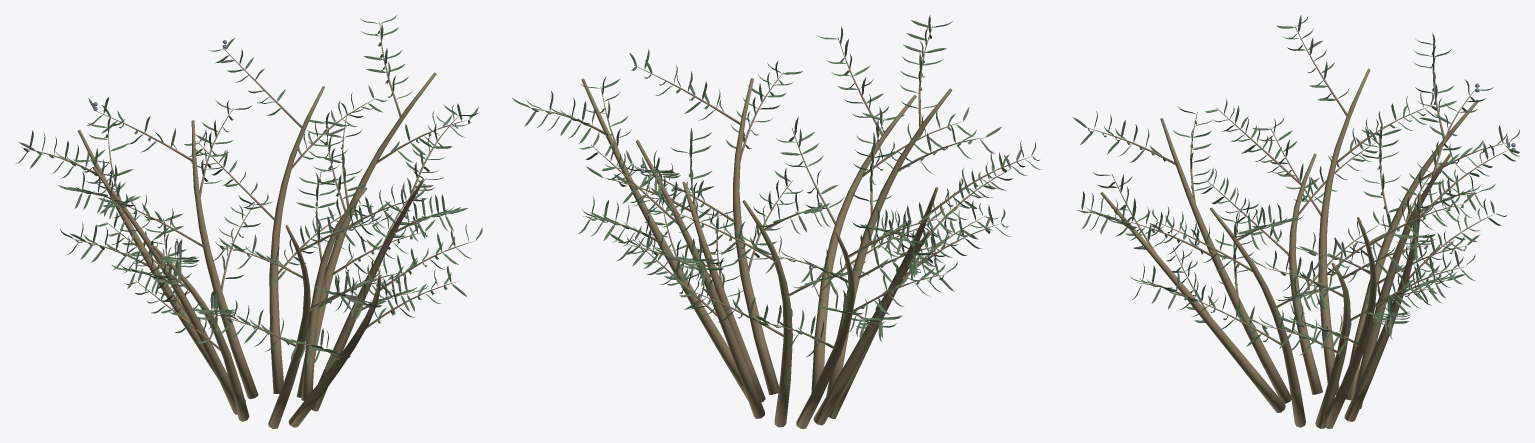
Rendered from Romarin_0_Niveau0.fbx.
3 renders of one model, left to right at view 1: azimuth 30°, elevation 25°; view 2: azimuth 150°, elevation 25°; view 3: azimuth 270°, elevation 25°, orthographic. The views are drawn at different scales.
Parts seen in each view (by area): view 1: Romarin_0_Niveau0; view 2: Romarin_0_Niveau0; view 3: Romarin_0_Niveau0.
Boxes of the visible parts, <box> form: Romarin_0_Niveau0: <box>16,15,482,428</box>; Romarin_0_Niveau0: <box>512,15,1042,428</box>; Romarin_0_Niveau0: <box>1072,15,1519,428</box>.
Size of the model in its own units: 59.19 by 40.29 by 53.62.
